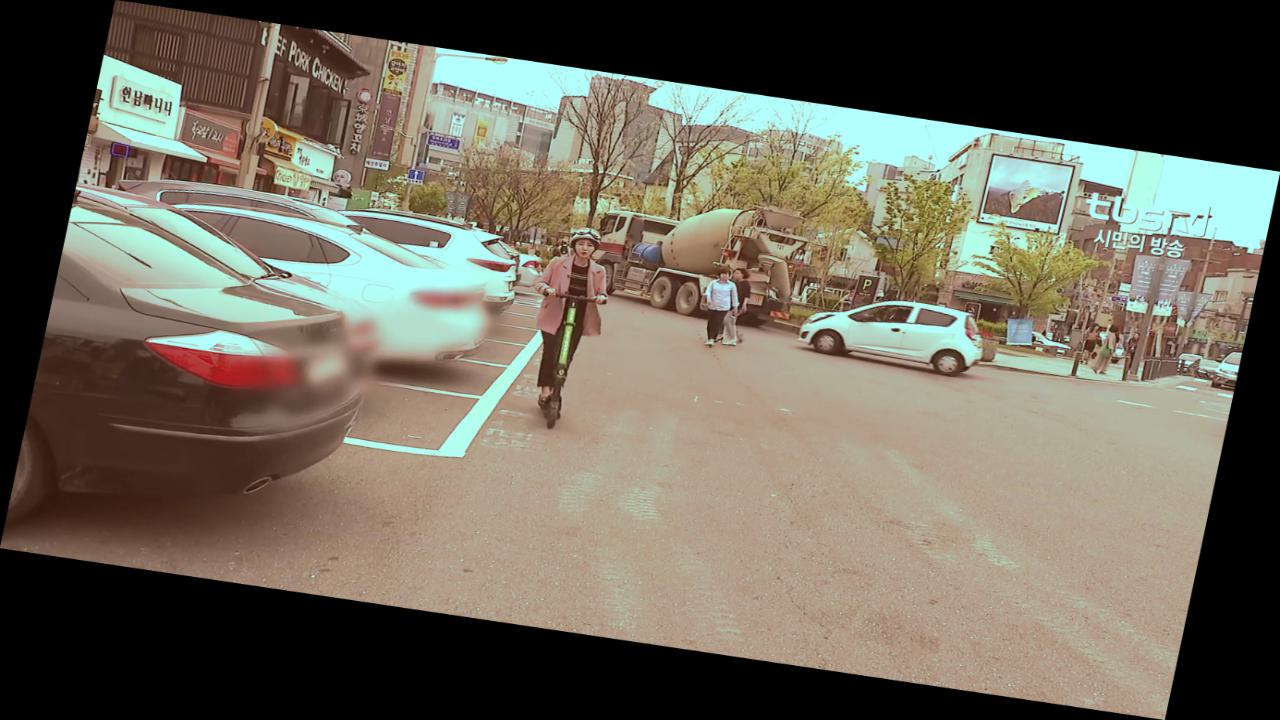helmet: (504, 221, 627, 434)
